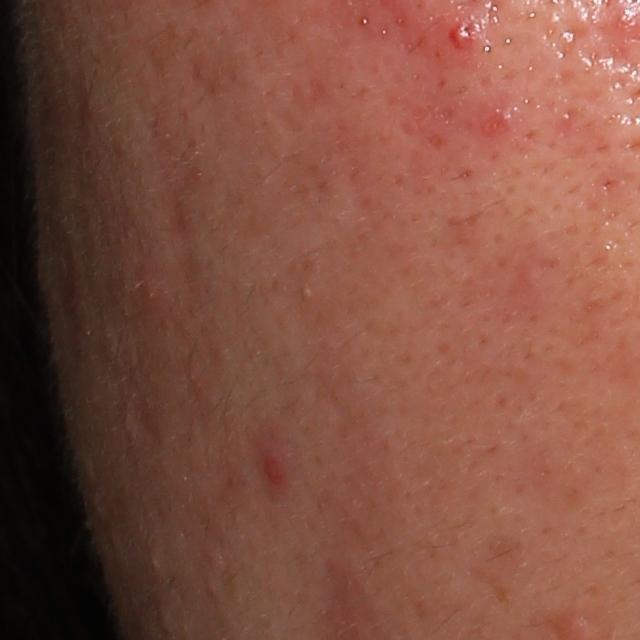comedo: (296, 278, 317, 305)
papule: (449, 10, 487, 54), (260, 455, 291, 491)
